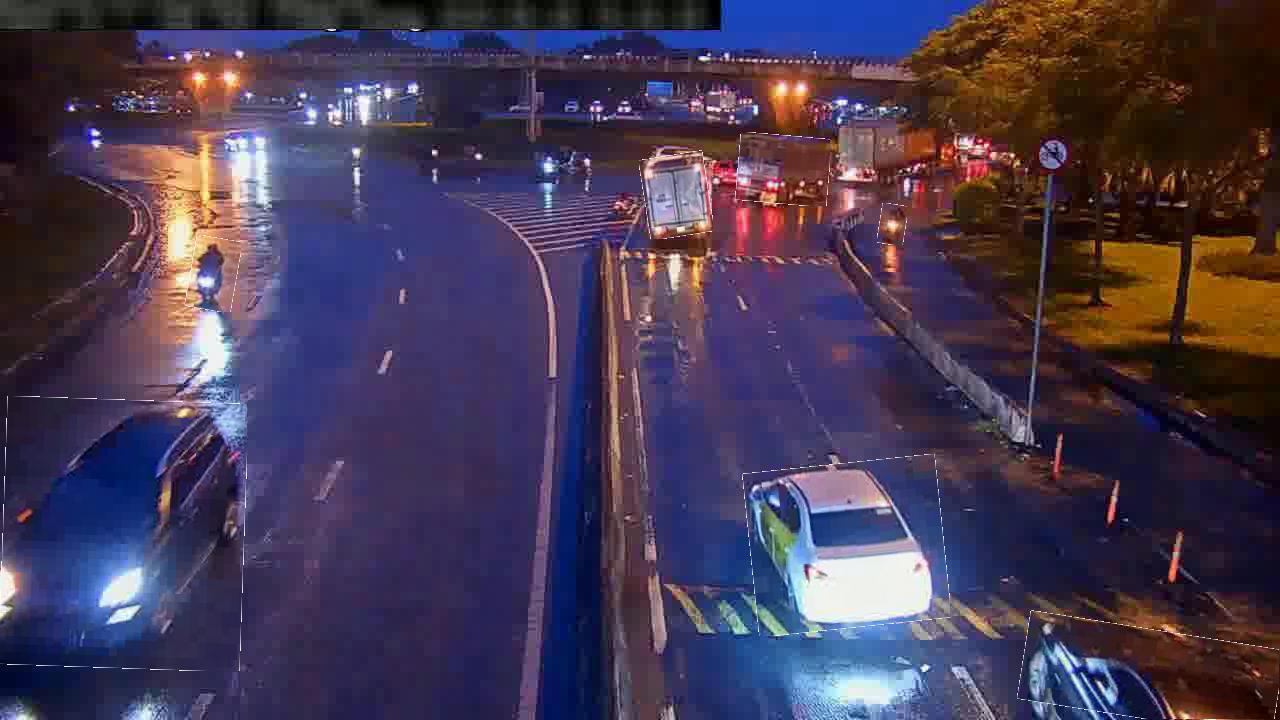8: (737, 134, 830, 206), (642, 153, 712, 238)
container: (0, 398, 246, 671), (746, 459, 947, 633), (1019, 620, 1279, 719)
motorbike: (188, 236, 240, 312), (879, 204, 907, 246)
